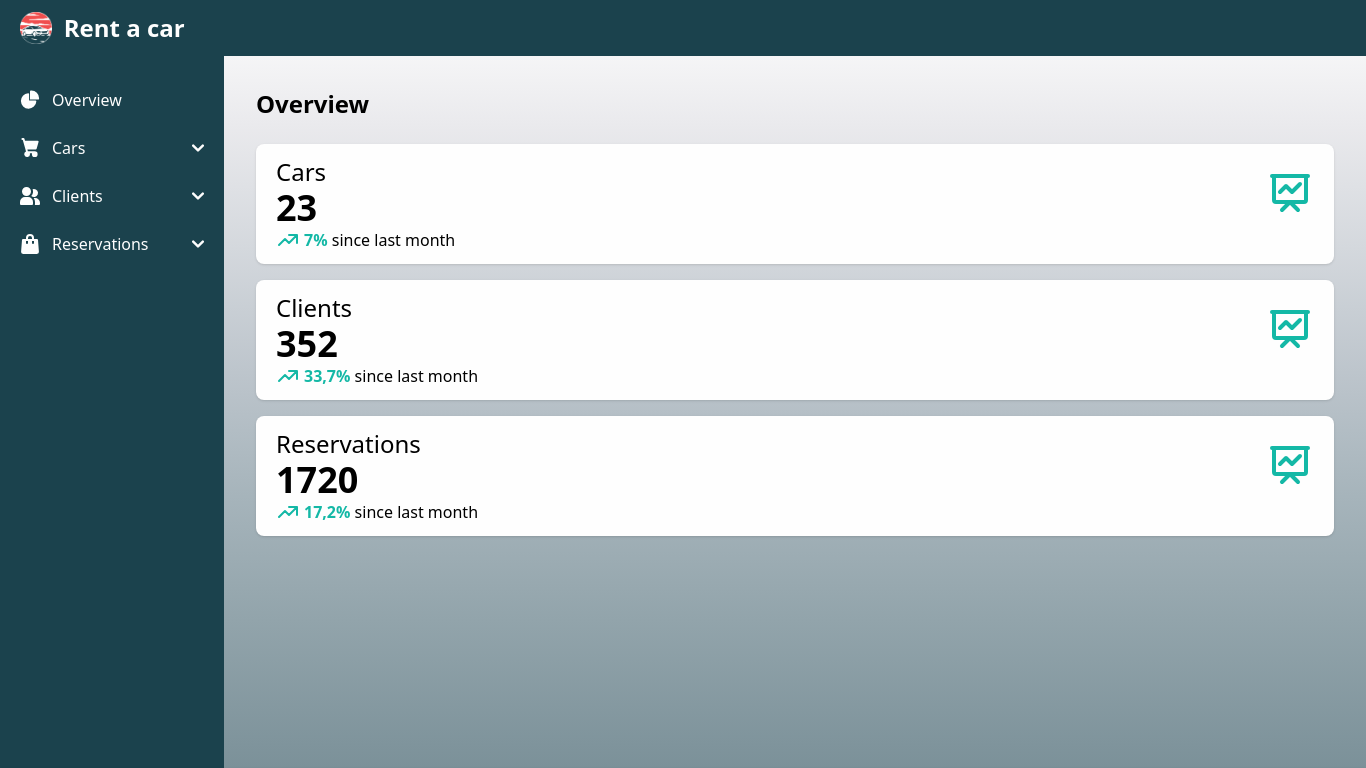
it: Rent a car › Cars management › Car Table › With cars › Modal › when clicking outside the modal, should close it
Click the button with test id "aside-car-button". click: (112, 148)
box: x1=12 y1=128 x2=212 y2=168
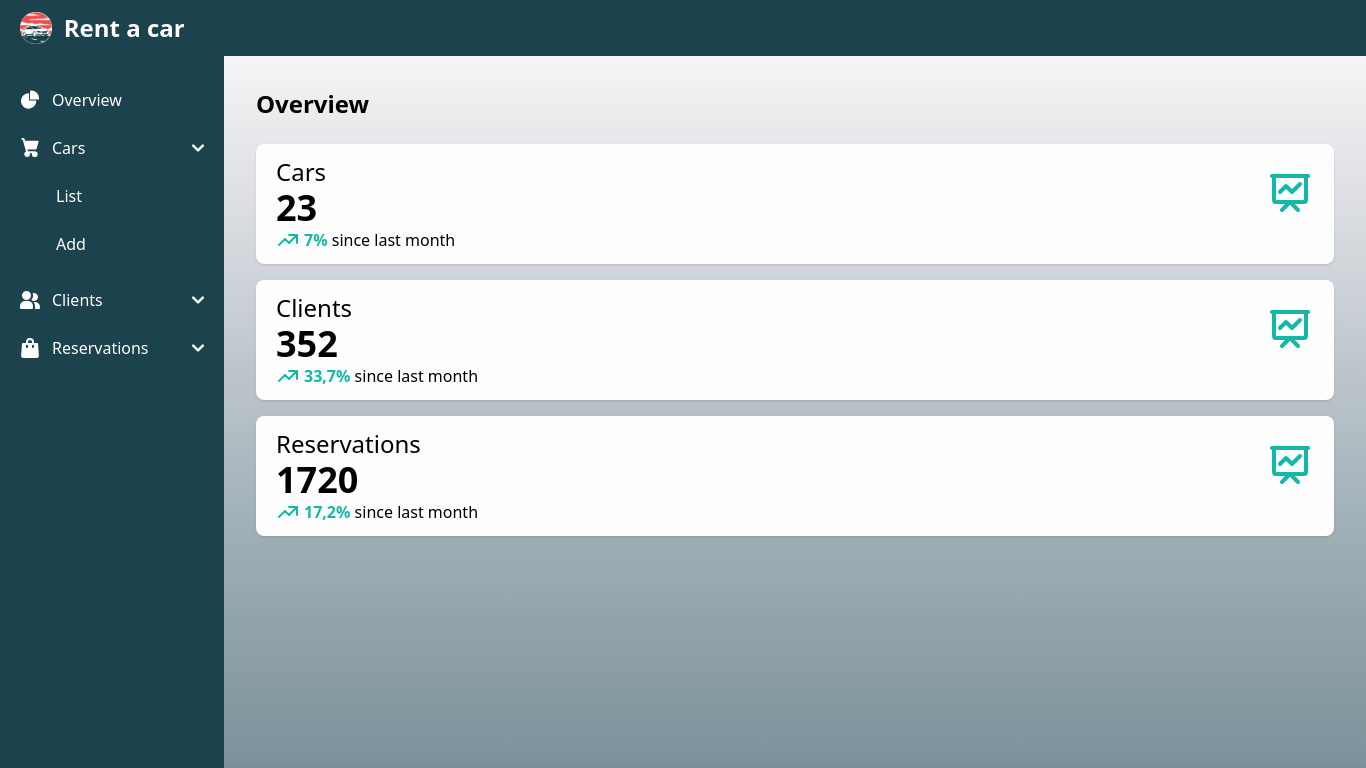
Click the link with test id "car-dropdown-list". click: (69, 196)
box: x1=56 y1=185 x2=82 y2=207
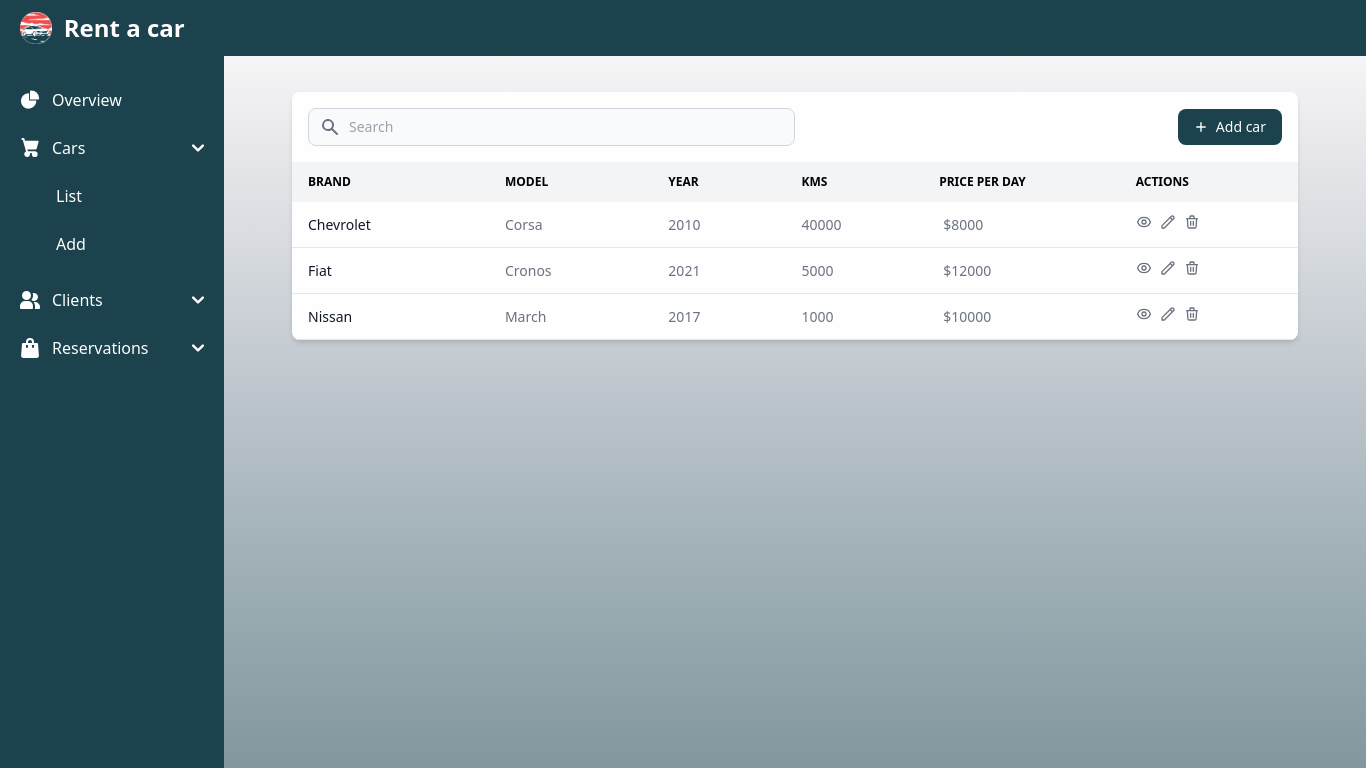
Click the button with test id "row-actions-delete" in the row of "Chevrolet". click: (1192, 222)
box: x1=1184 y1=214 x2=1200 y2=230
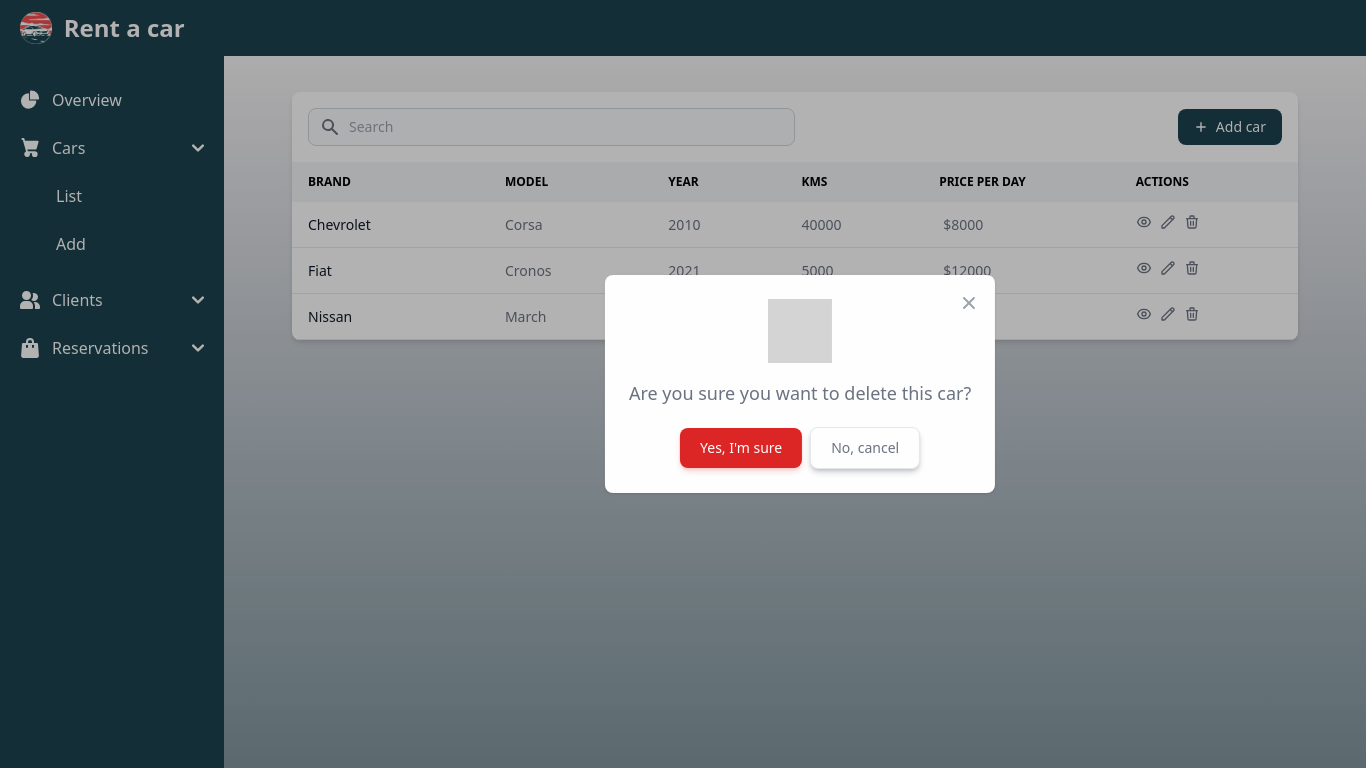
Check: the element with test id "modal-container" is shown, box x1=605 y1=275 x2=995 y2=493
Click the element with test id "outside-modal-container". click: (683, 1)
box: x1=0 y1=0 x2=1365 y2=767
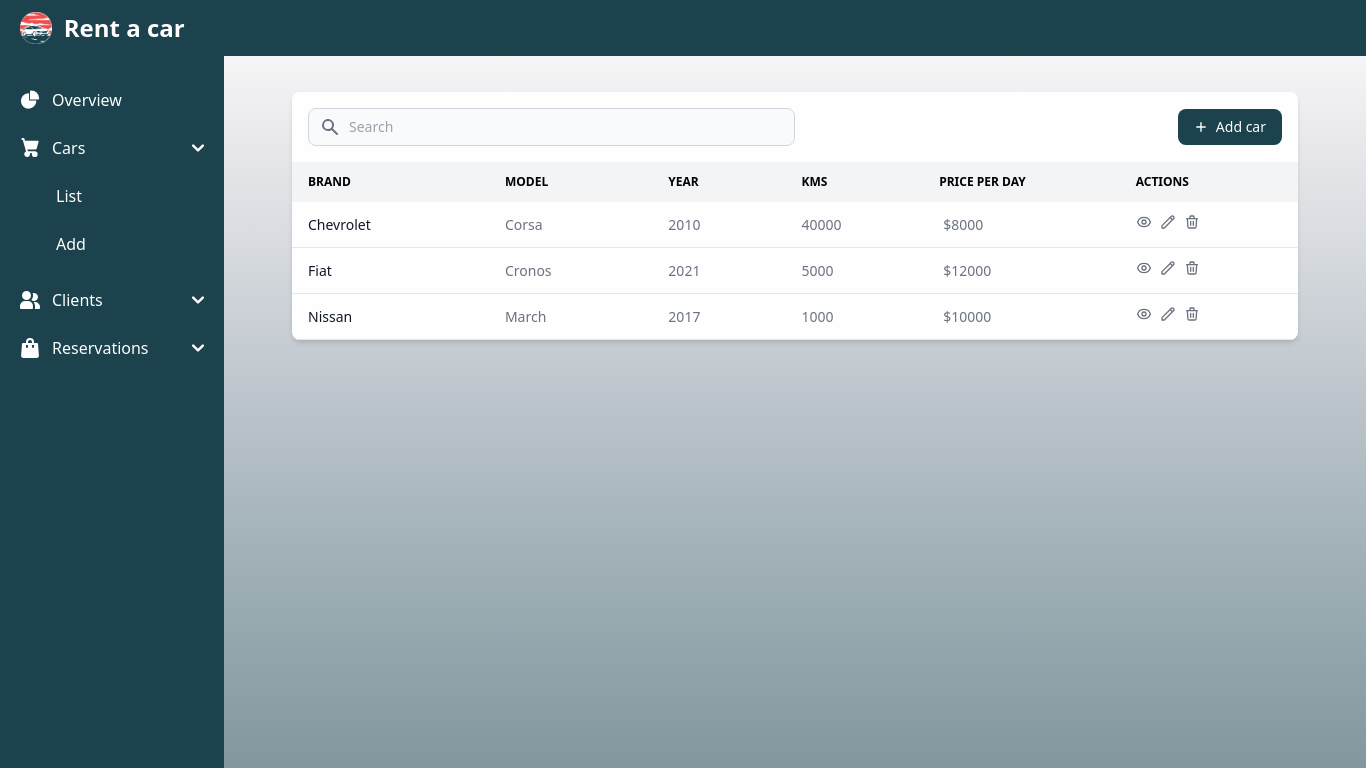
Check: the element with test id "modal-container" is gone
